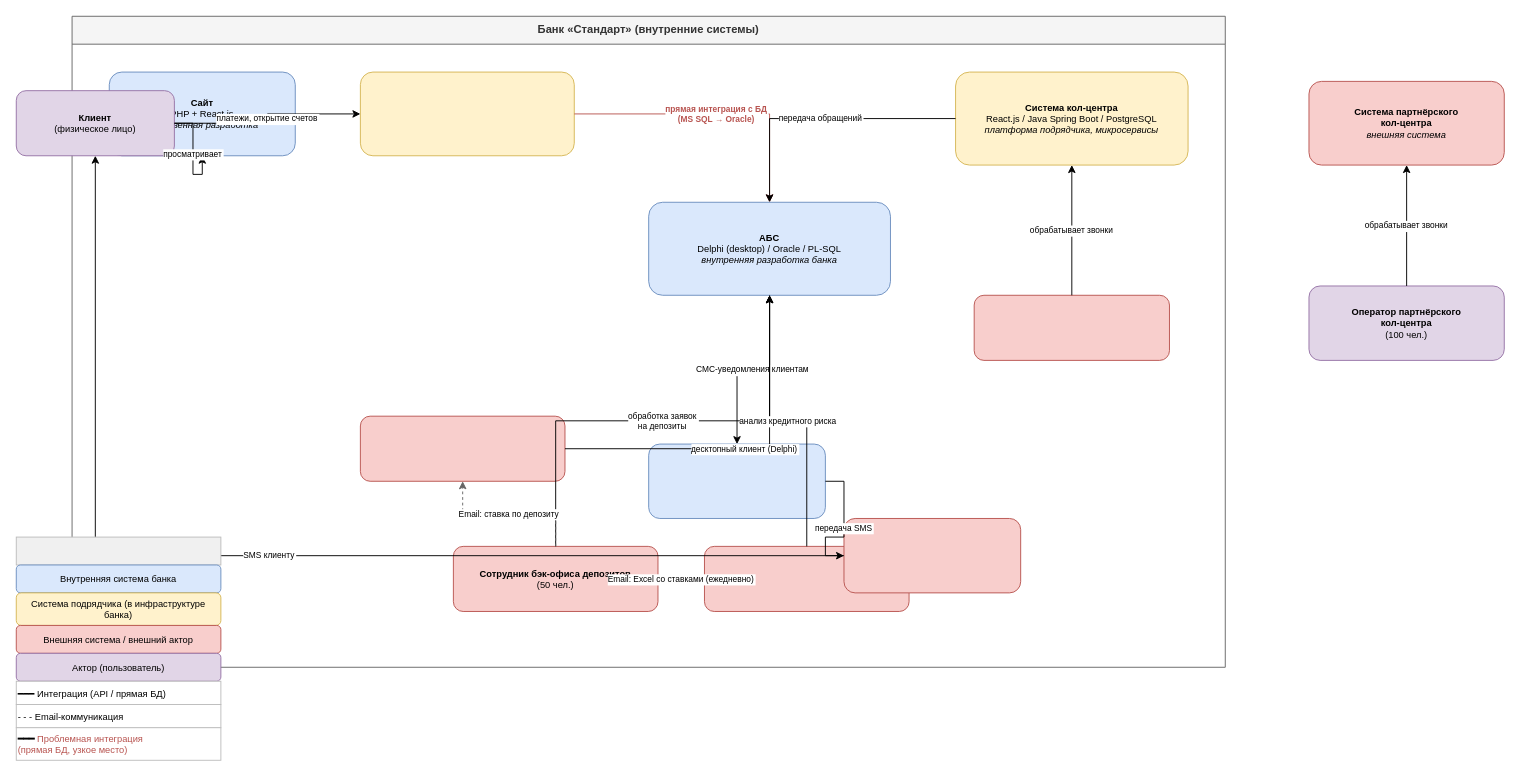
This 1521x777 diagram has some shape labels left out. The shapes that lost their labels are listed below. From the top down, each one's centre as x and y in pixels, then its label:
At (466,113): "Интернет-банк ASP.NET MVC 4.5 / MS SQL платформа подрядчика".
At (1071,327): "Оператор кол-центра (200 чел.)".
At (462,448): "Сотрудник отделения (500 чел., 50 отделений)".
At (736,480): "СМС-шлюз поддерживает IT банка".
At (118,550): "Легенда".
At (932,555): "Телеком-оператор внешний".
At (806,578): "Сотрудник бэк-офиса кредитов (50 чел.)".
